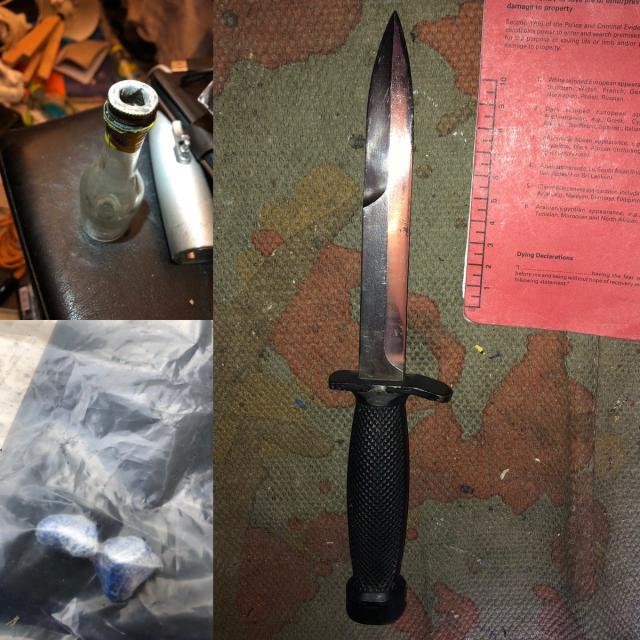Sharp-Object: (332, 8, 449, 629)
